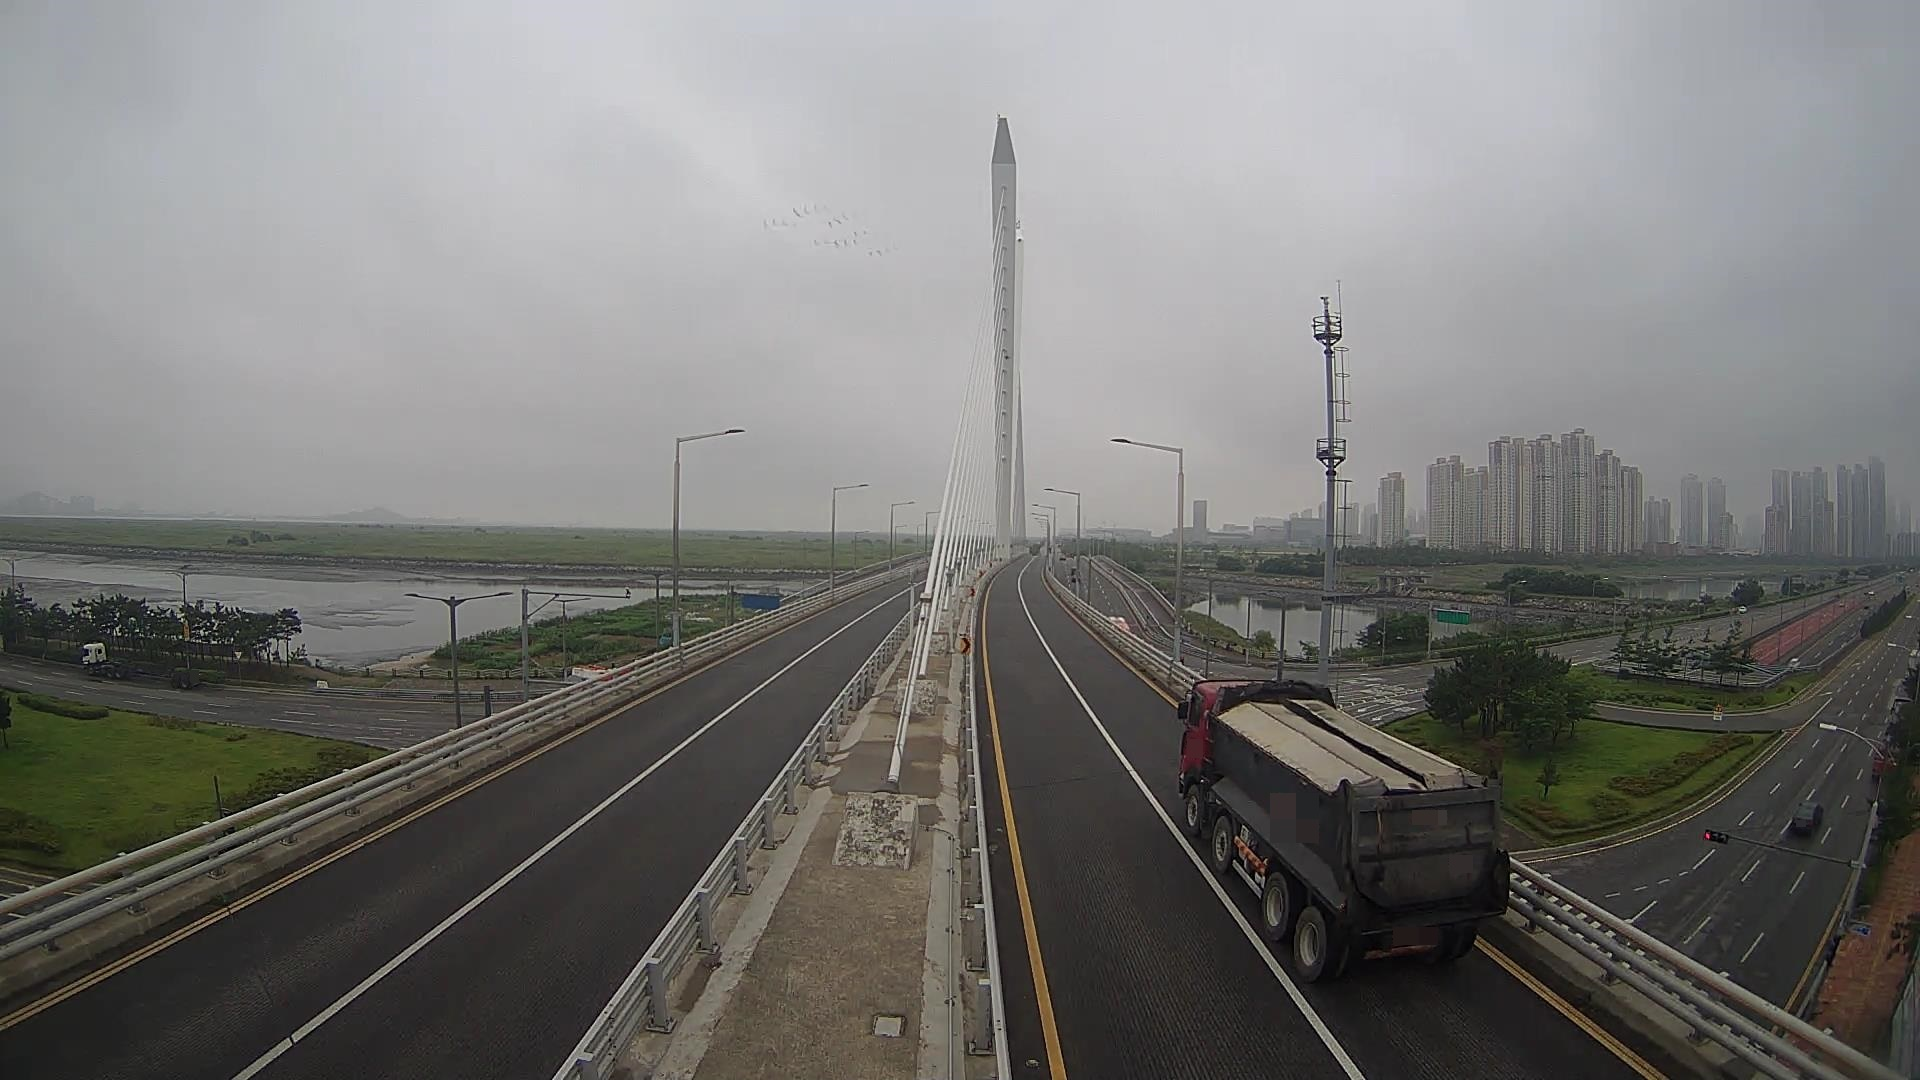정상차량: (1178, 679, 1513, 985)
